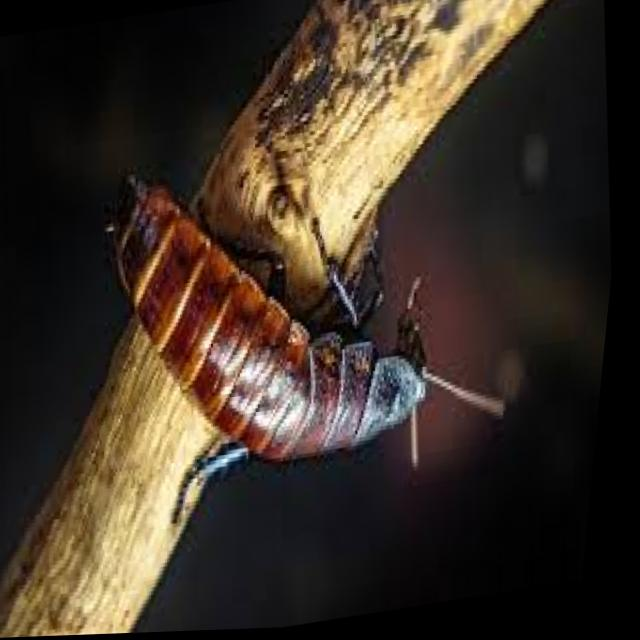Cockroach: (70, 101, 551, 558)
